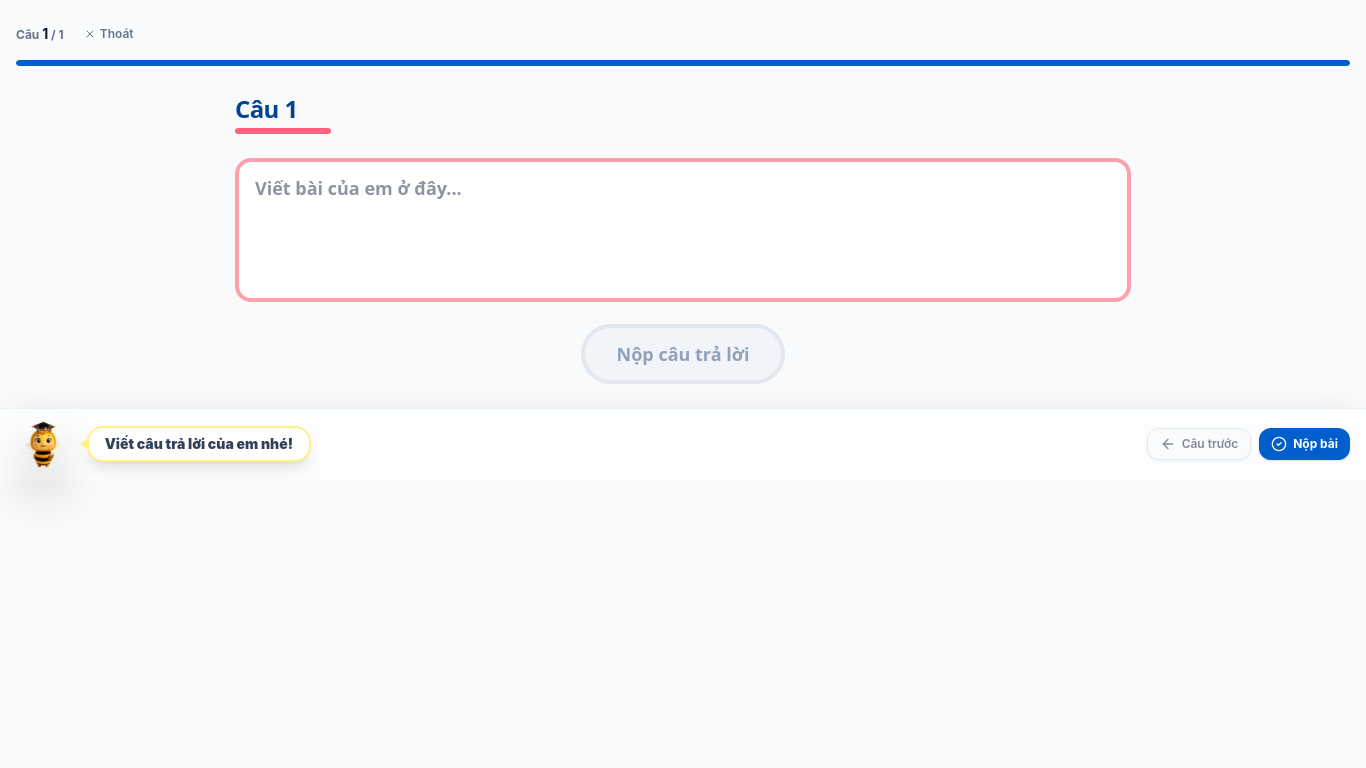
Test case: SubmissionRunner — trạng thái câu GV phải chấm tay (SBT line 34a) › lượt vừa nộp: câu tự luận + server graded → 'Chờ giáo viên chấm', KHÔNG hiện điểm
// Vào màn làm bài rồi nộp (câu tự luận để trống → hộp thoại xác nhận).
Click the button "Nộp bài" at (1305, 444), box [1259, 428, 1350, 460]
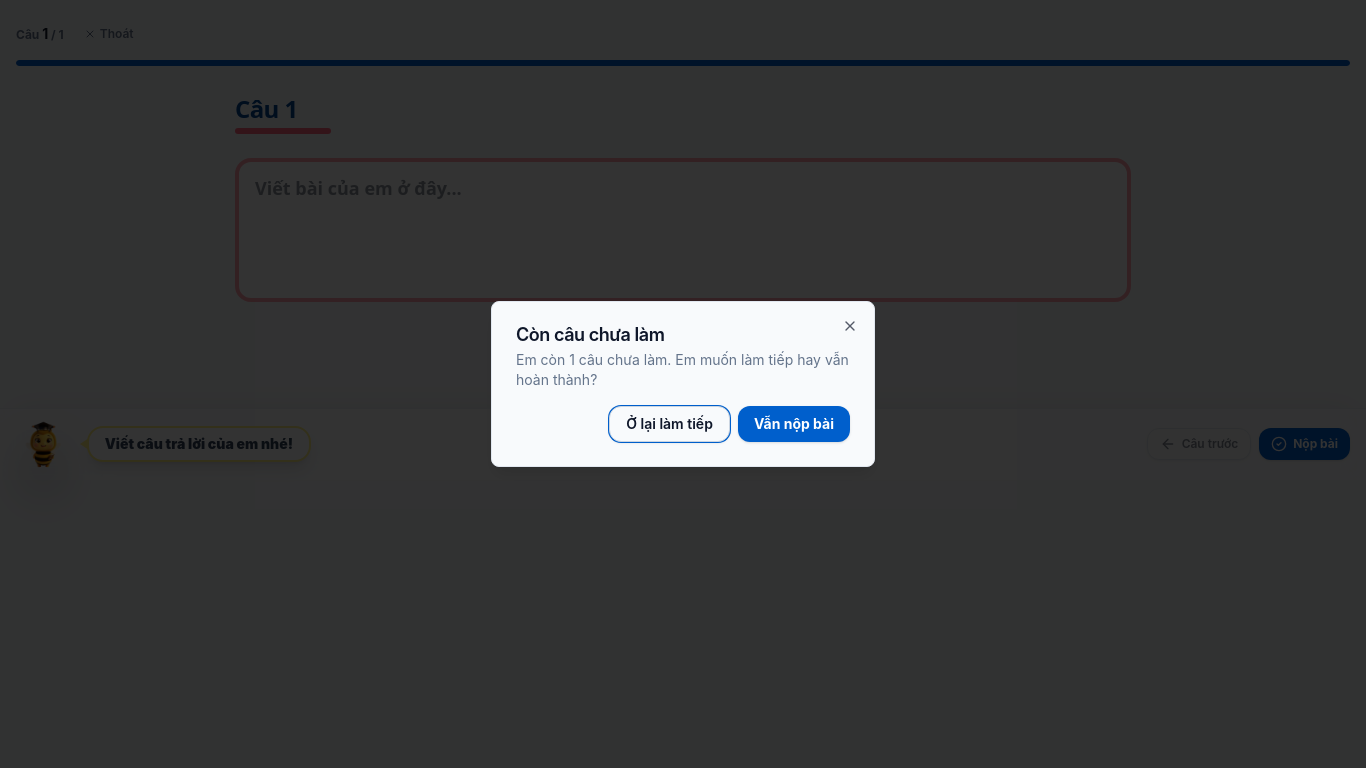
Click the button "Vẫn nộp bài" at (794, 424), box [738, 406, 850, 442]
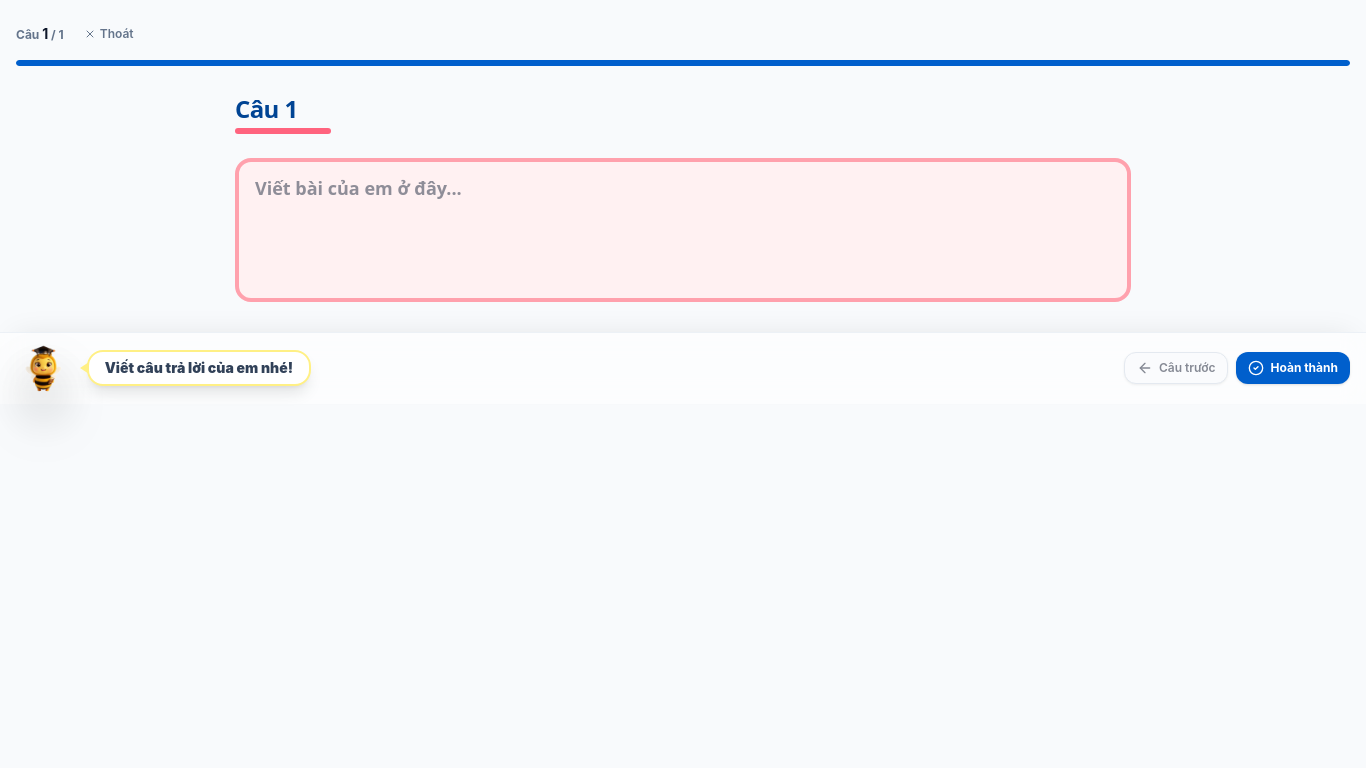
// Nộp xong runner ở lại soát bài (chấm tại chỗ) — bấm "Hoàn thành" mới ra màn điểm.
Click the button "Hoàn thành" at (1293, 368), box [1236, 352, 1350, 384]
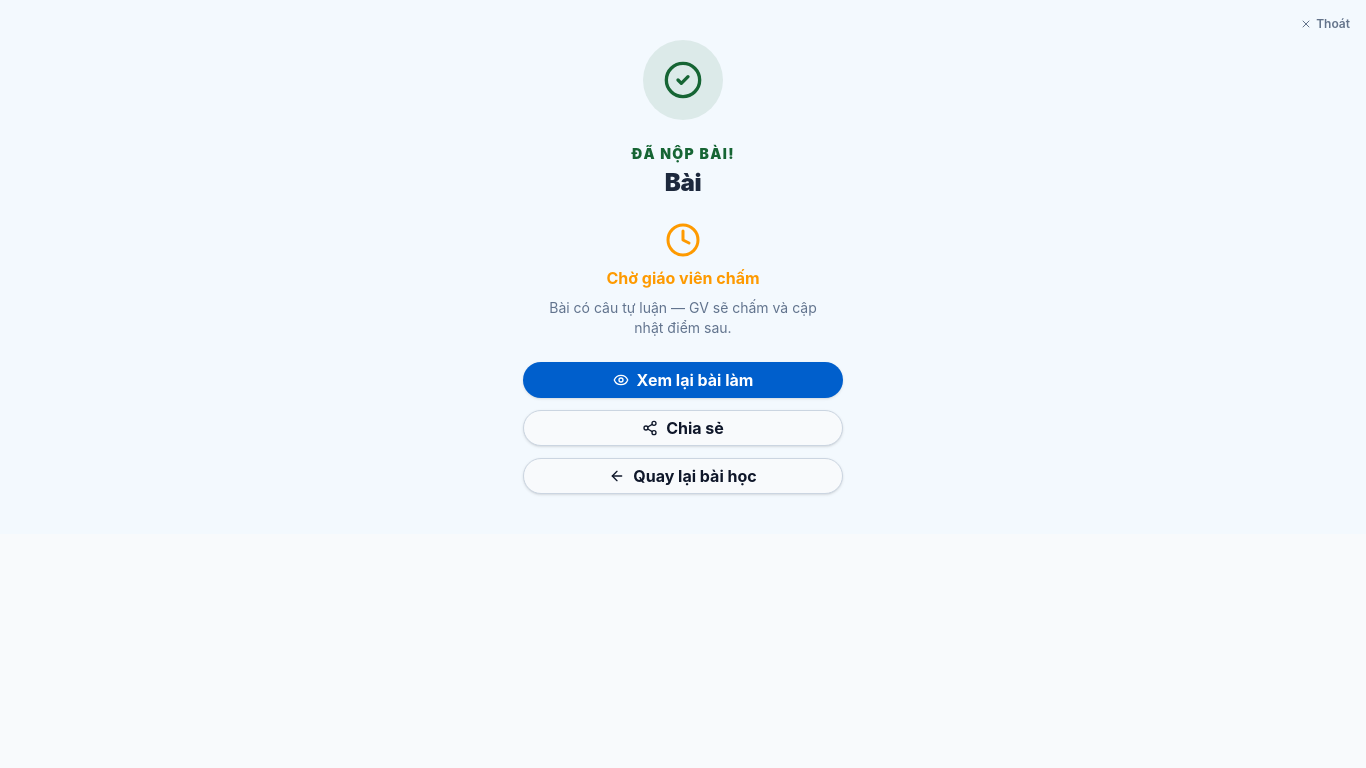
Expected: the text "Đã nộp bài!" is shown, [631, 144, 735, 164]
Expected: the text "Chờ giáo viên chấm" is shown, [606, 266, 760, 290]
